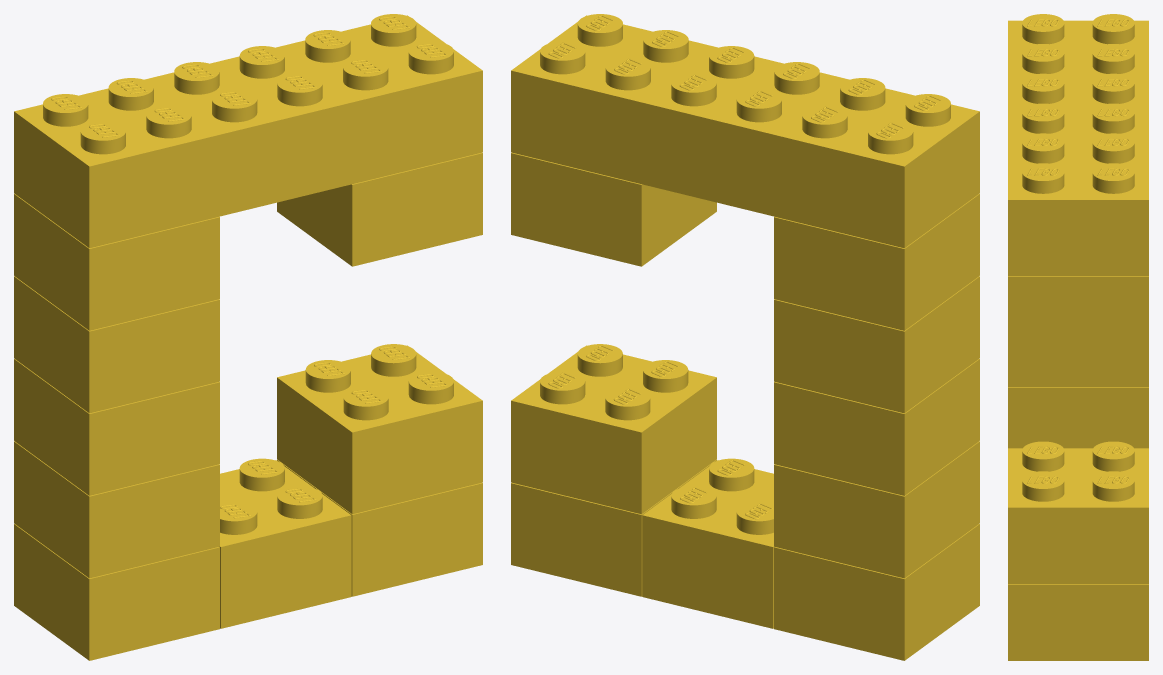
3 views of the same model, side by side, from view 1: azimuth 30°, elevation 25°; view 2: azimuth 150°, elevation 25°; view 3: azimuth 270°, elevation 25° (orthographic). The views are drawn at different scales.
Parts seen in each view (by area): view 1: Inner-Node-C_dot_io-8, Inner-Node-C_dot_io-3, Inner-Node-C_dot_io-7, Inner-Node-C_dot_io-1, Inner-Node-C_dot_io-0, Inner-Node-C_dot_io-5, Inner-Node-C_dot_io-4, Inner-Node-C_dot_io-9, Inner-Node-C_dot_io-6, Inner-Node-C_dot_io-2; view 2: Inner-Node-C_dot_io-8, Inner-Node-C_dot_io-3, Inner-Node-C_dot_io-7, Inner-Node-C_dot_io-1, Inner-Node-C_dot_io-0, Inner-Node-C_dot_io-5, Inner-Node-C_dot_io-4, Inner-Node-C_dot_io-9, Inner-Node-C_dot_io-6, Inner-Node-C_dot_io-2; view 3: Inner-Node-C_dot_io-8, Inner-Node-C_dot_io-3, Inner-Node-C_dot_io-2, Inner-Node-C_dot_io-6, Inner-Node-C_dot_io-0, Inner-Node-C_dot_io-9.
Part boxes in pixels (left/top/right/bottom): Inner-Node-C_dot_io-8: left=14, top=14, right=482, bottom=248; Inner-Node-C_dot_io-3: left=277, top=344, right=482, bottom=514; Inner-Node-C_dot_io-7: left=219, top=458, right=351, bottom=628; Inner-Node-C_dot_io-1: left=14, top=276, right=219, bottom=413; Inner-Node-C_dot_io-0: left=14, top=441, right=219, bottom=578; Inner-Node-C_dot_io-5: left=14, top=193, right=219, bottom=330; Inner-Node-C_dot_io-4: left=14, top=524, right=219, bottom=660; Inner-Node-C_dot_io-9: left=14, top=359, right=219, bottom=495; Inner-Node-C_dot_io-6: left=277, top=152, right=482, bottom=266; Inner-Node-C_dot_io-2: left=277, top=459, right=482, bottom=596; Inner-Node-C_dot_io-8: left=511, top=14, right=979, bottom=248; Inner-Node-C_dot_io-3: left=511, top=344, right=716, bottom=514; Inner-Node-C_dot_io-7: left=642, top=458, right=774, bottom=628; Inner-Node-C_dot_io-1: left=774, top=276, right=979, bottom=413; Inner-Node-C_dot_io-0: left=774, top=441, right=979, bottom=578; Inner-Node-C_dot_io-5: left=774, top=193, right=979, bottom=330; Inner-Node-C_dot_io-4: left=774, top=524, right=979, bottom=660; Inner-Node-C_dot_io-9: left=774, top=359, right=979, bottom=495; Inner-Node-C_dot_io-6: left=511, top=152, right=716, bottom=266; Inner-Node-C_dot_io-2: left=511, top=459, right=716, bottom=596; Inner-Node-C_dot_io-8: left=1008, top=14, right=1148, bottom=275; Inner-Node-C_dot_io-3: left=1008, top=441, right=1148, bottom=583; Inner-Node-C_dot_io-2: left=1008, top=584, right=1148, bottom=660; Inner-Node-C_dot_io-6: left=1008, top=276, right=1148, bottom=352; Inner-Node-C_dot_io-0: left=1008, top=387, right=1148, bottom=448; Inner-Node-C_dot_io-9: left=1008, top=353, right=1148, bottom=387.
Bounding box in the file's own units: 120 × 148 × 39.75.
